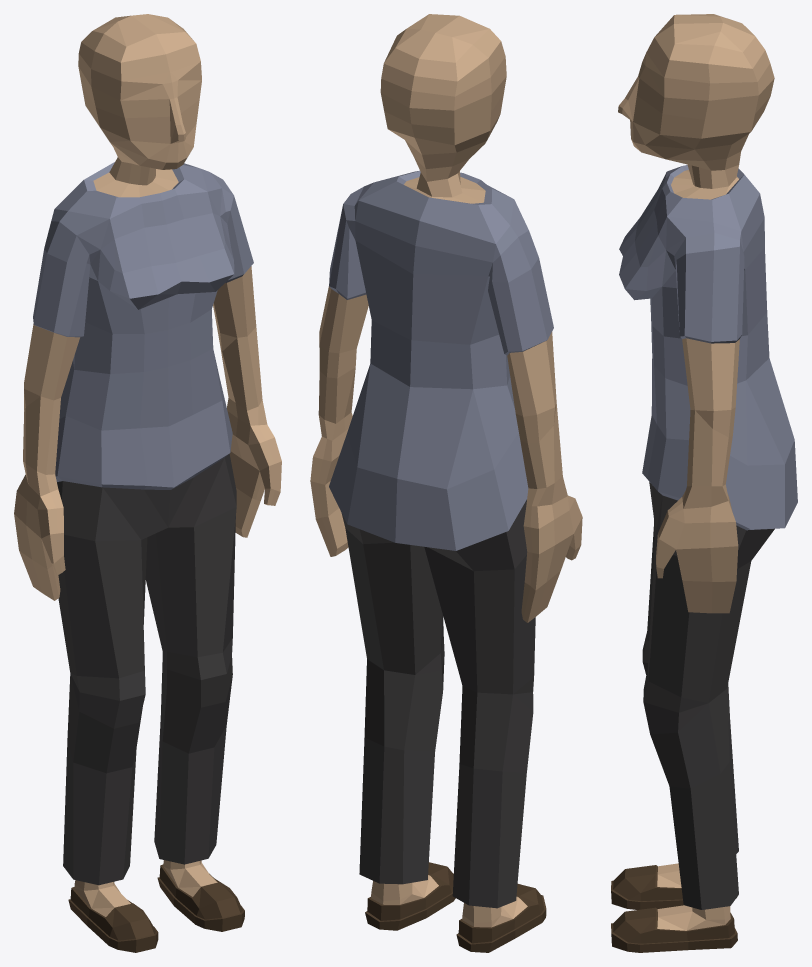
The model's file is Female_Standing.glb.
3 views of the same model, side by side, from view 1: azimuth 30°, elevation 25°; view 2: azimuth 150°, elevation 25°; view 3: azimuth 270°, elevation 25° (orthographic). The views are drawn at different scales.
Visible parts, largest first — view 1: Female_Standing; view 2: Female_Standing; view 3: Female_Standing.
Boxes of the visible parts, <box> form: Female_Standing: <box>14,14,281,952</box>; Female_Standing: <box>310,14,582,952</box>; Female_Standing: <box>611,14,797,952</box>.
Bounding box in the file's own units: 1.01 × 3.7 × 0.6994.
